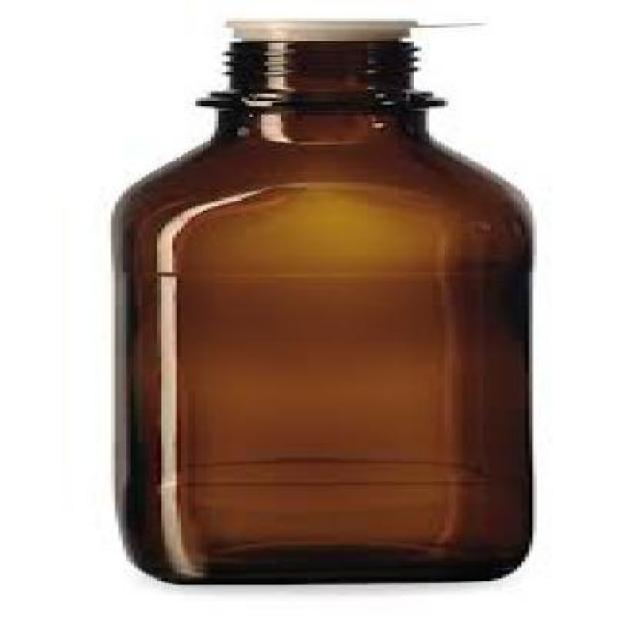GLASS: (108, 38, 532, 584)
PLASTIC: (222, 17, 475, 38)
